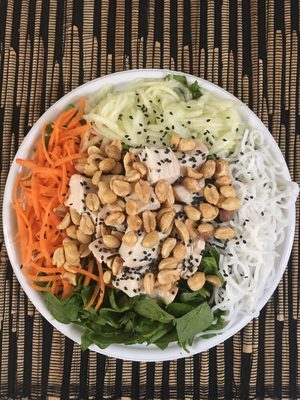sushi: (2, 65, 298, 381)
